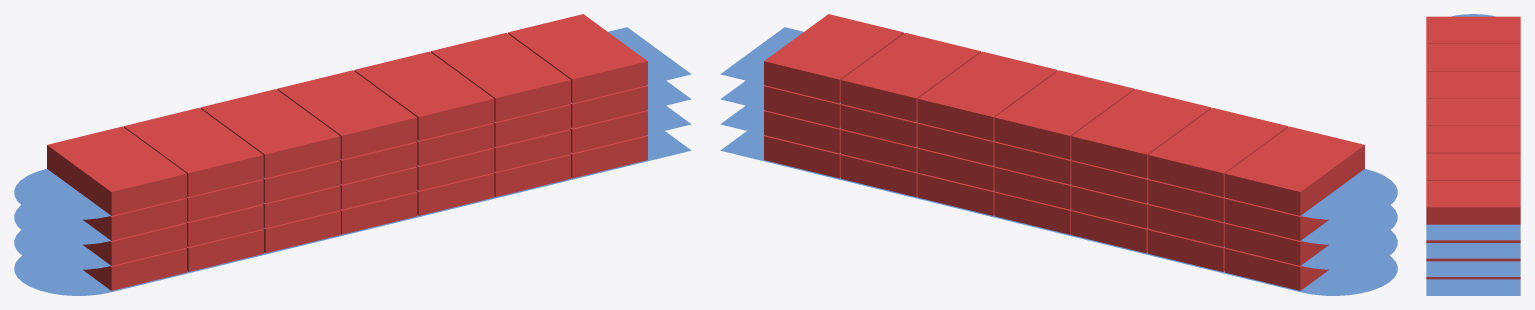
File: FDvessel.glb
The picture shows the model from 3 angles, left to right: view 1: azimuth 30°, elevation 25°; view 2: azimuth 150°, elevation 25°; view 3: azimuth 270°, elevation 25°; orthographic projection. The views are drawn at different scales.
Visible parts, largest first — view 1: Z1_4, Z3_4, Z4_4, Z5_4, Z6_4, Z7_4, Z2_4, Deck4, Deck1, Deck2, Deck3, Z1_2 (+20 smaller); view 2: Z1_4, Z3_4, Z4_4, Z5_4, Z6_4, Z7_4, Z2_4, Deck4, Deck1, Deck2, Deck3, Z1_2 (+20 smaller); view 3: Z7_4, Z1_4, Z2_4, Z3_4, Z4_4, Z5_4, Z6_4, Deck4, Deck1, Deck2, Deck3, Z7_2 (+2 smaller).
Boxes of the visible parts, <box> form: Z1_4: <box>47,126,186,215</box>; Z3_4: <box>200,89,340,178</box>; Z4_4: <box>277,70,417,159</box>; Z5_4: <box>354,51,494,140</box>; Z6_4: <box>431,33,570,121</box>; Z7_4: <box>508,14,647,103</box>; Z2_4: <box>123,108,263,197</box>; Deck4: <box>14,27,691,219</box>; Deck1: <box>14,131,691,295</box>; Deck2: <box>14,105,691,269</box>; Deck3: <box>14,80,691,244</box>; Z1_2: <box>83,223,186,265</box>; Z1_4: <box>1225,126,1364,215</box>; Z3_4: <box>1071,89,1211,178</box>; Z4_4: <box>994,70,1134,159</box>; Z5_4: <box>917,51,1057,140</box>; Z6_4: <box>841,33,980,121</box>; Z7_4: <box>764,14,903,103</box>; Z2_4: <box>1148,108,1288,197</box>; Deck4: <box>720,27,1397,219</box>; Deck1: <box>720,131,1397,295</box>; Deck2: <box>720,105,1397,269</box>; Deck3: <box>720,80,1397,244</box>; Z1_2: <box>1225,223,1328,265</box>; Z7_4: <box>1426,180,1520,224</box>; Z1_4: <box>1426,16,1520,43</box>; Z2_4: <box>1426,44,1520,71</box>; Z3_4: <box>1426,71,1520,98</box>; Z4_4: <box>1426,98,1520,125</box>; Z5_4: <box>1426,126,1520,153</box>; Z6_4: <box>1426,153,1520,180</box>; Deck4: <box>1426,14,1520,240</box>; Deck1: <box>1426,279,1520,295</box>; Deck2: <box>1426,261,1520,276</box>; Deck3: <box>1426,243,1520,258</box>; Z7_2: <box>1426,258,1520,261</box>.
Bounding box in the file's own units: 11.4 × 1.71 × 2.
